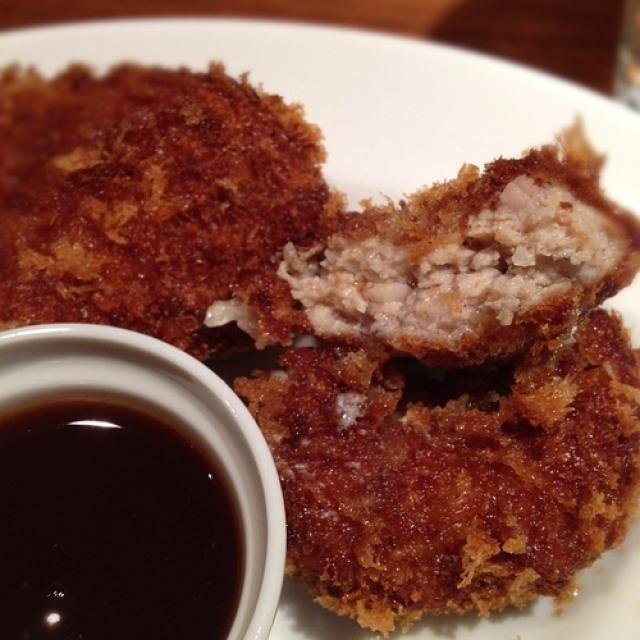炸货点心: (1, 26, 634, 624)
